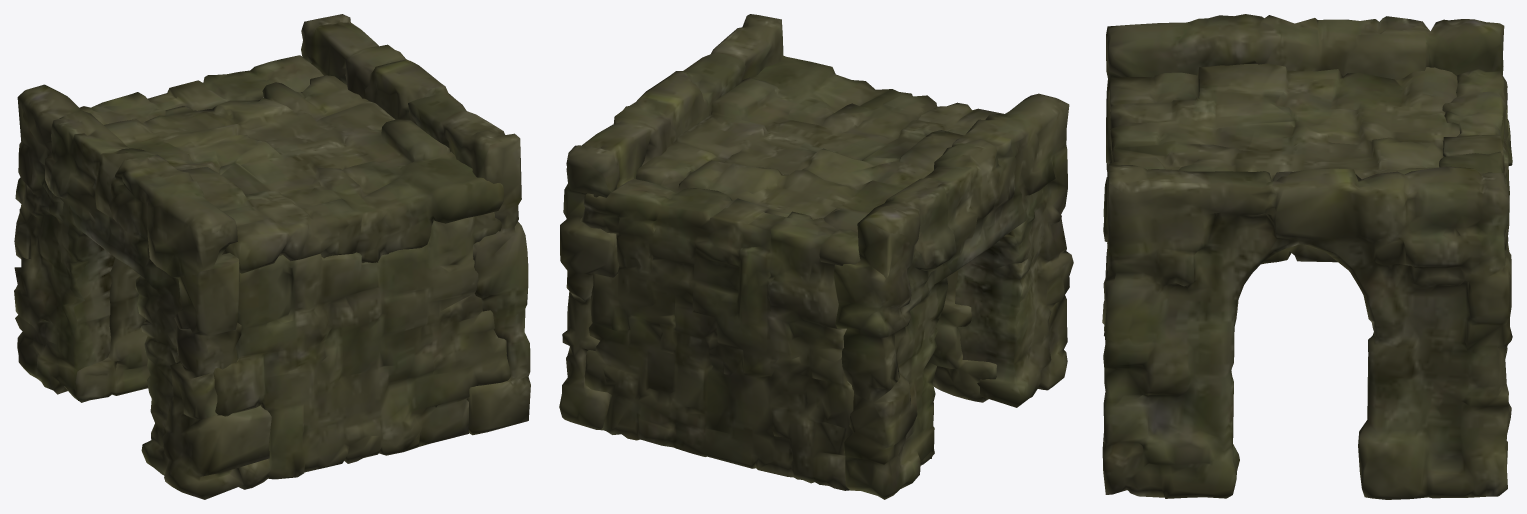
File: Ruins_Block03-transformed.glb
The picture shows the model from 3 angles, left to right: view 1: azimuth 30°, elevation 25°; view 2: azimuth 150°, elevation 25°; view 3: azimuth 270°, elevation 25°; orthographic projection. The views are drawn at different scales.
Visible parts, largest first — view 1: Ruins_Block03; view 2: Ruins_Block03; view 3: Ruins_Block03.
Part boxes in pixels (left/top/right/bottom): Ruins_Block03: left=14, top=14, right=530, bottom=499; Ruins_Block03: left=559, top=14, right=1073, bottom=499; Ruins_Block03: left=1102, top=14, right=1512, bottom=499.
Bounding box in the file's own units: 5.04 × 4.02 × 4.7.
Materials: 1 (1 with a texture image).
